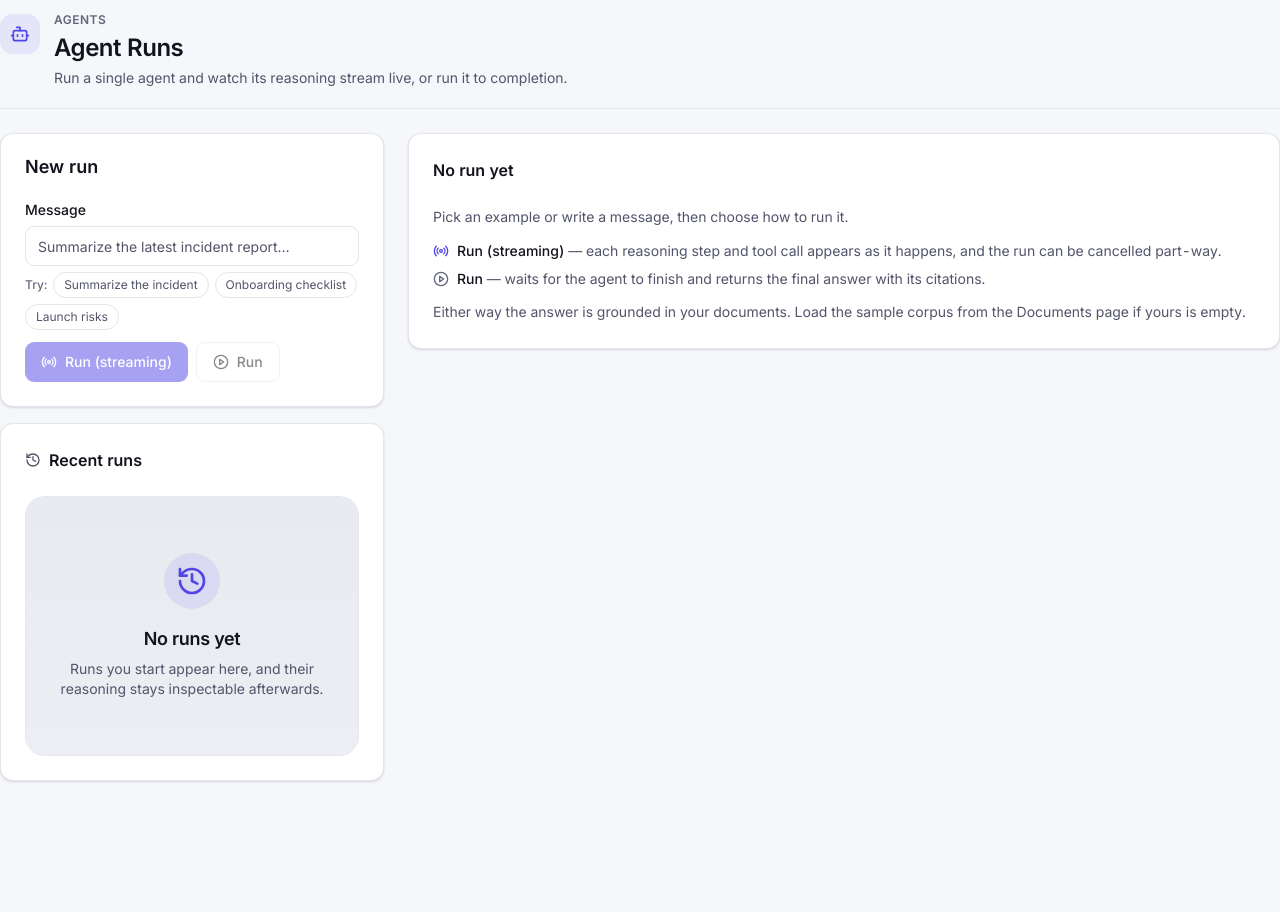
SingleAgentRunView (MSW SSE) › shows answer + termination_reason + citations for a non-streaming run (9.4)
Step 1. Type "hi" into the field with test id "agent-message" → (192, 246), box [25,226,359,266]
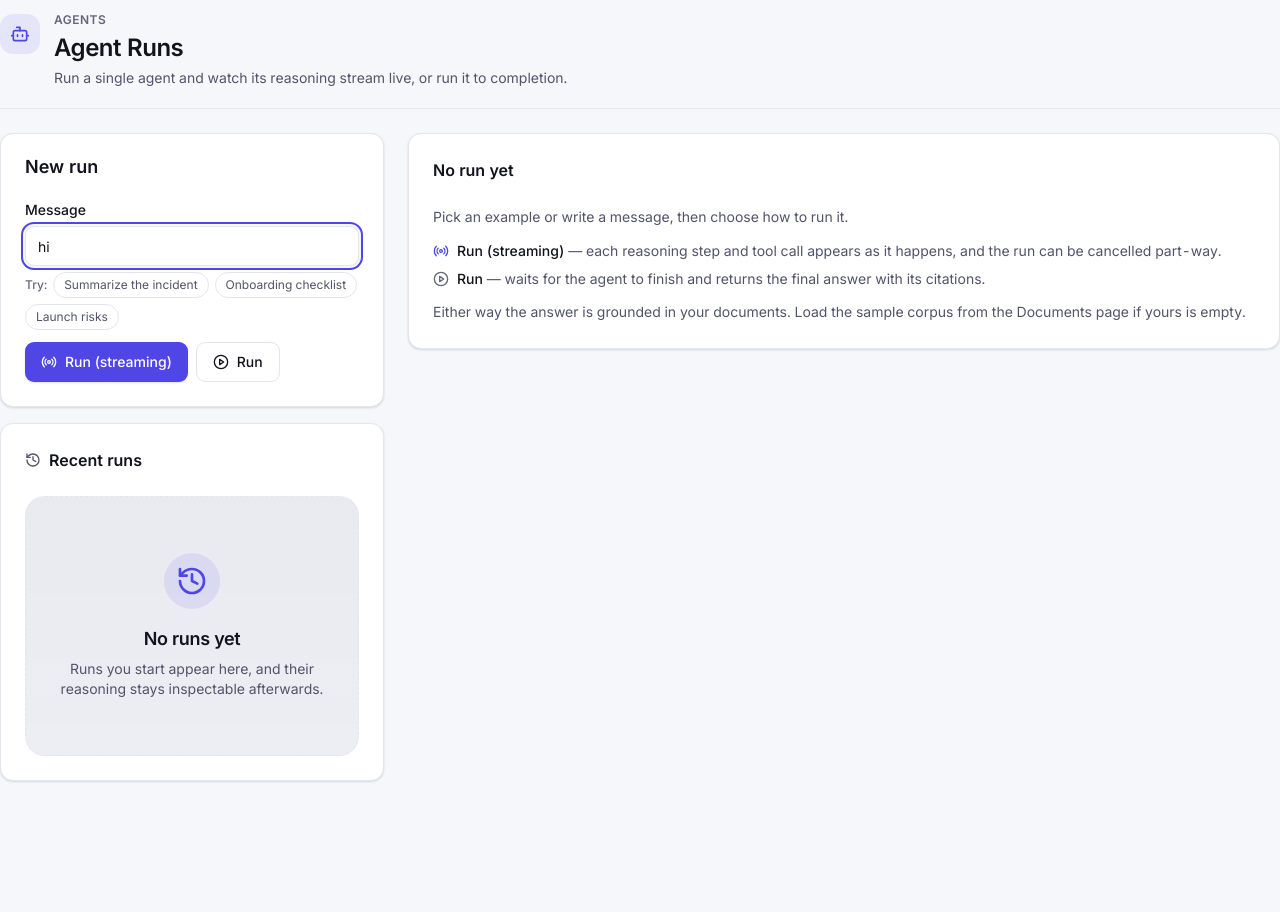
Step 2. Click the button with test id "agent-run" → (238, 362), box [196,342,280,382]
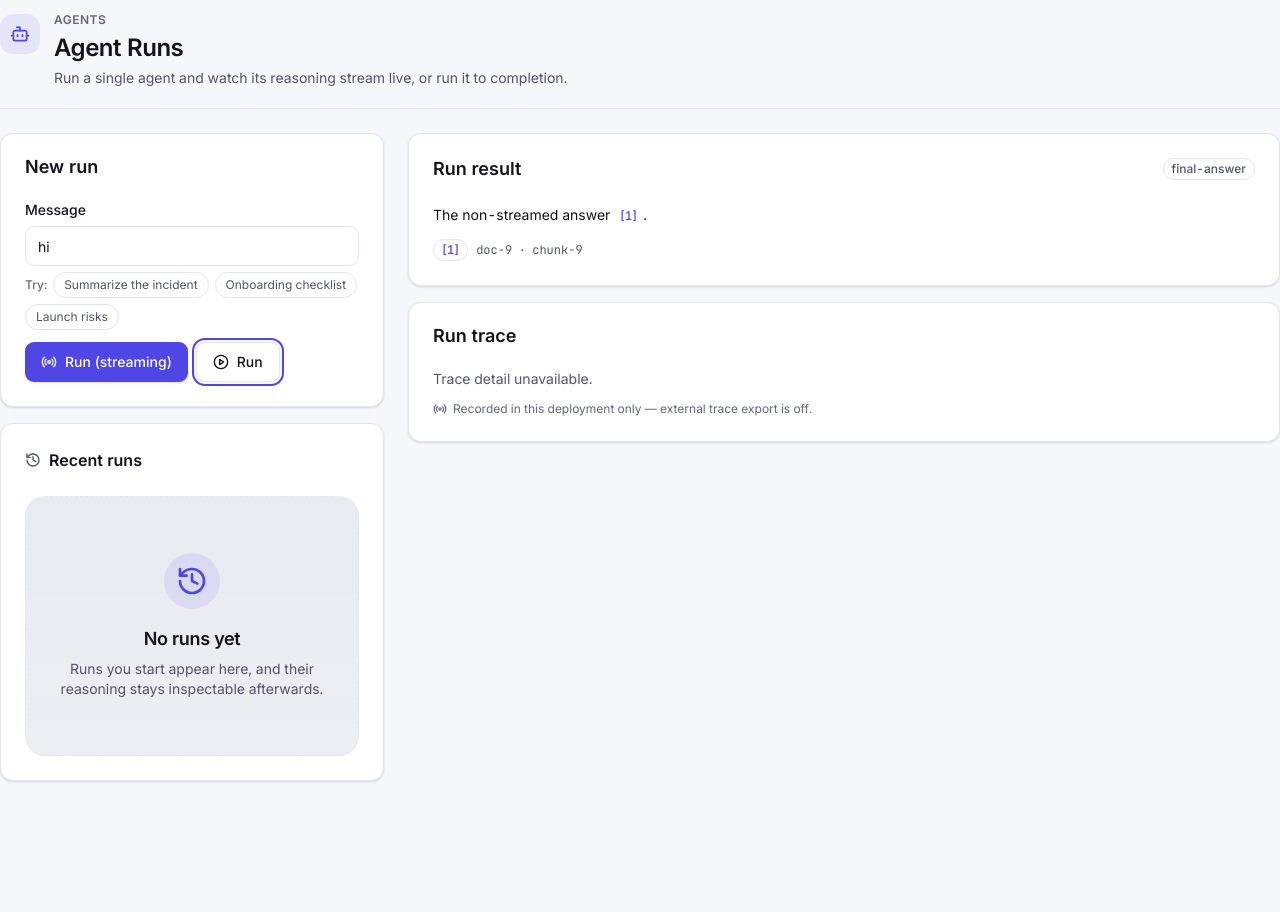
Now the element with test id "run-result-card" is shown, box [408,133,1279,286]
Now the element with test id "run-answer" shows "The non-streamed answer", box [433,206,614,223]
Now the text with test id "run-termination-reason" reads "final-answer", box [1172,161,1246,176]
